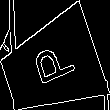P_W: (25, 40, 78, 93)
